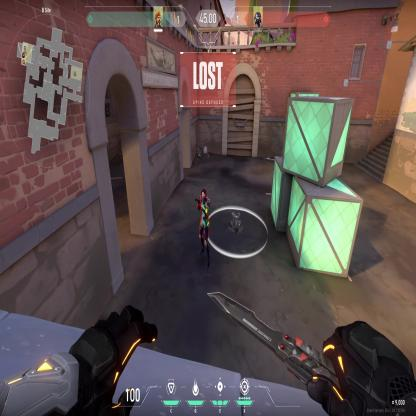enemy: (195, 187, 210, 273)
